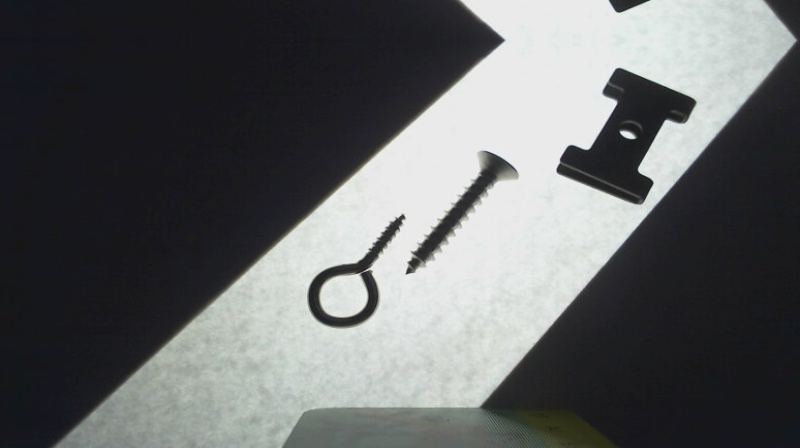O001: (305, 210, 409, 331)
O002: (551, 64, 699, 208)
S001: (399, 147, 523, 277)
